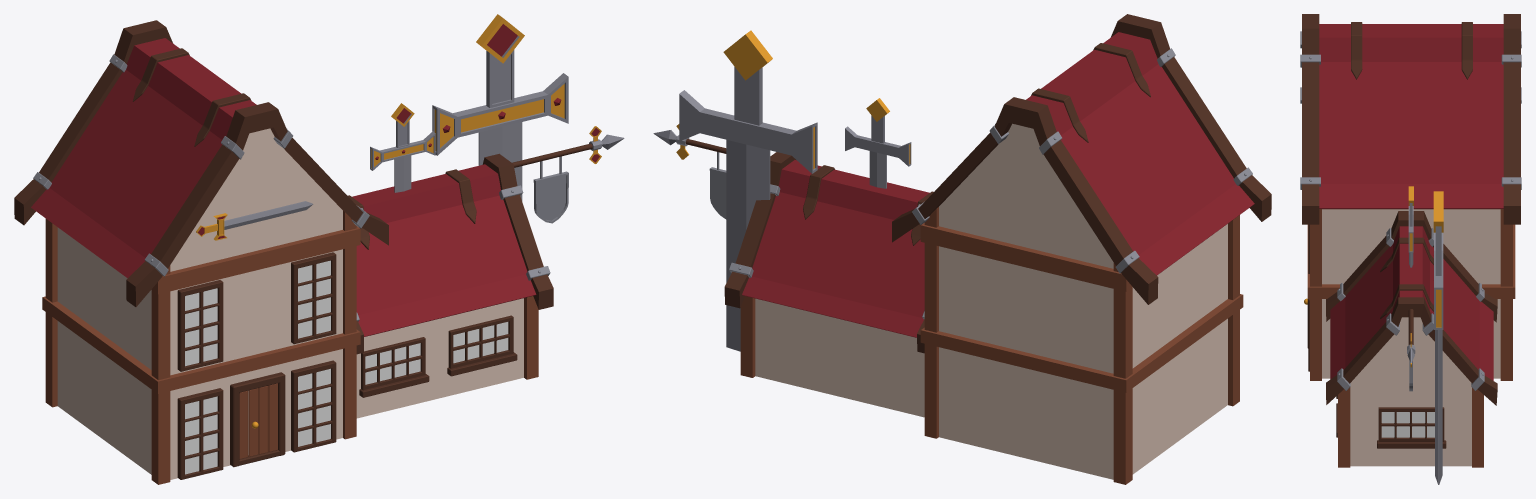
File: Armory_Upgrade_4.fbx
The picture shows the model from 3 angles, left to right: view 1: azimuth 30°, elevation 25°; view 2: azimuth 150°, elevation 25°; view 3: azimuth 270°, elevation 25°; orthographic projection. The views are drawn at different scales.
Visible parts, largest first — view 1: Big sword; view 2: Big sword; view 3: Big sword.
Part boxes in pixels (box(x1,y1,x2,y2)): Big sword: box(14, 14, 624, 484); Big sword: box(653, 14, 1271, 484); Big sword: box(1300, 14, 1521, 484).
Bounding box in the file's own units: 1251 × 764 × 485.
